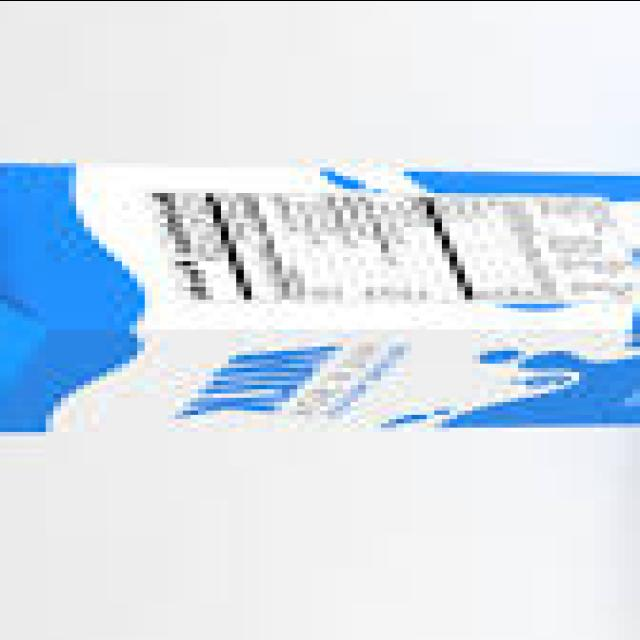milk: (0, 111, 640, 478)
